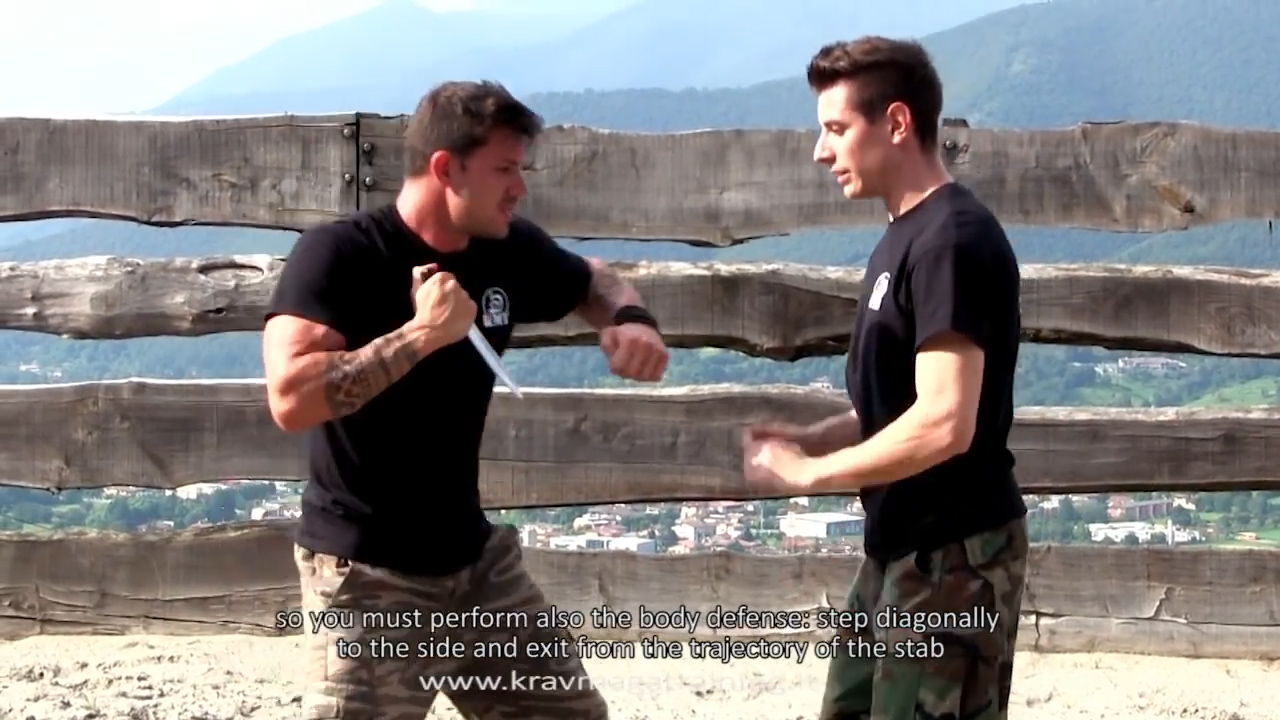knife: (410, 260, 532, 408)
